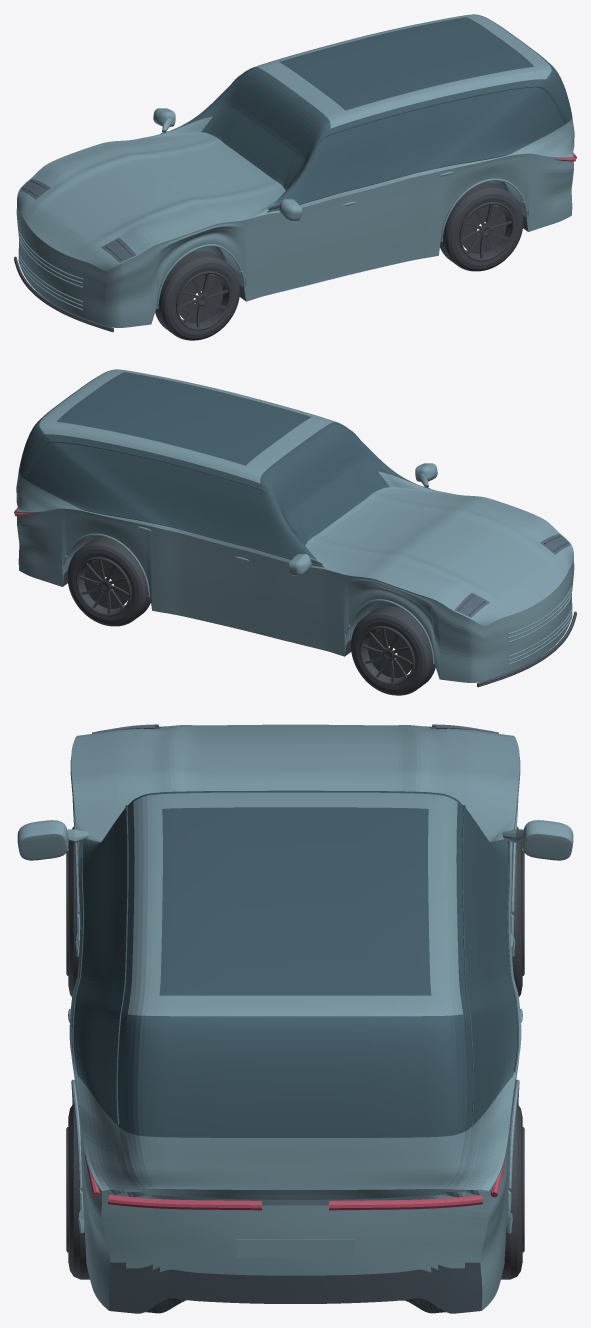
The model's file is MiShape-Generated-SUV.glb.
3 views of the same model, one above another, from view 1: azimuth 30°, elevation 25°; view 2: azimuth 150°, elevation 25°; view 3: azimuth 270°, elevation 25° (orthographic). The views are drawn at different scales.
Visible parts, largest first — view 1: 发动机盖, 右侧窗与柱框, 全景车顶, 右前车门, 右前翼子板, 前风挡, 右后车门, 车顶外框, 右前轮组, 右后翼子板, 右后轮组, 前保险杠与进气饰面 (+7 smaller); view 2: 发动机盖, 左侧窗与柱框, 全景车顶, 左前车门, 左前翼子板, 前风挡, 左后车门, 车顶外框, 左前轮组, 左后翼子板, 左后轮组, 前保险杠与进气饰面 (+7 smaller); view 3: 全景车顶, 后风挡, 尾门与后甲板, 发动机盖, 车顶外框, 后保险杠, 右侧窗与柱框, 左侧窗与柱框, 后扩散器区域, 右前翼子板, 左前翼子板, 左后翼子板 (+9 smaller).
Boxes of the visible parts, bbox=[...] form: 发动机盖: bbox=[21, 116, 294, 263]; 右侧窗与柱框: bbox=[267, 79, 569, 212]; 全景车顶: bbox=[279, 17, 533, 110]; 右前车门: bbox=[105, 190, 572, 327]; 右前翼子板: bbox=[90, 196, 280, 320]; 前风挡: bbox=[201, 67, 330, 190]; 右后车门: bbox=[367, 164, 474, 259]; 车顶外框: bbox=[255, 14, 551, 128]; 右前轮组: bbox=[155, 251, 239, 340]; 右后翼子板: bbox=[265, 153, 573, 241]; 右后轮组: bbox=[440, 182, 523, 271]; 前保险杠与进气饰面: bbox=[16, 207, 106, 325]; 发动机盖: bbox=[301, 471, 569, 618]; 左侧窗与柱框: bbox=[21, 434, 323, 567]; 全景车顶: bbox=[57, 372, 311, 465]; 左前车门: bbox=[18, 545, 485, 682]; 左前翼子板: bbox=[310, 551, 500, 675]; 前风挡: bbox=[260, 422, 389, 545]; 左后车门: bbox=[116, 519, 223, 614]; 车顶外框: bbox=[39, 369, 335, 483]; 左前轮组: bbox=[351, 606, 435, 695]; 左后翼子板: bbox=[17, 508, 325, 596]; 左后轮组: bbox=[67, 537, 150, 626]; 前保险杠与进气饰面: bbox=[484, 562, 574, 680]; 全景车顶: bbox=[159, 807, 431, 995]; 后风挡: bbox=[123, 1014, 467, 1137]; 尾门与后甲板: bbox=[74, 1072, 516, 1231]; 发动机盖: bbox=[76, 724, 514, 841]; 车顶外框: bbox=[127, 792, 463, 1016]; 后保险杠: bbox=[101, 1217, 489, 1275]; 右侧窗与柱框: bbox=[72, 800, 134, 1131]; 左侧窗与柱框: bbox=[456, 800, 518, 1131]; 后扩散器区域: bbox=[108, 1262, 482, 1313]; 右前翼子板: bbox=[70, 729, 127, 956]; 左前翼子板: bbox=[463, 729, 520, 956]; 左后翼子板: bbox=[480, 841, 521, 1291].
Size of the model in its own units: 5.1 by 1.74 by 2.47.
